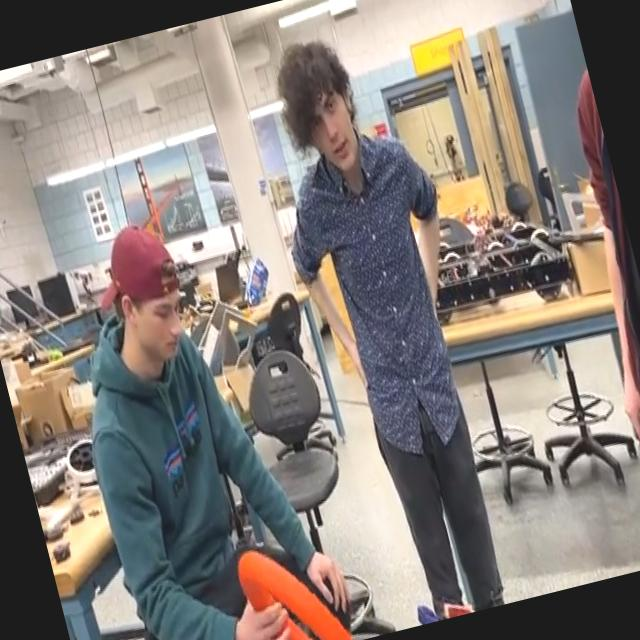note: (228, 524, 356, 640)
